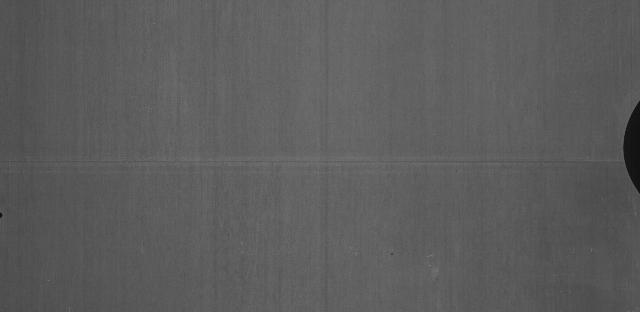punching_hole: (0, 202, 12, 227)
welding_line: (2, 152, 639, 172)
